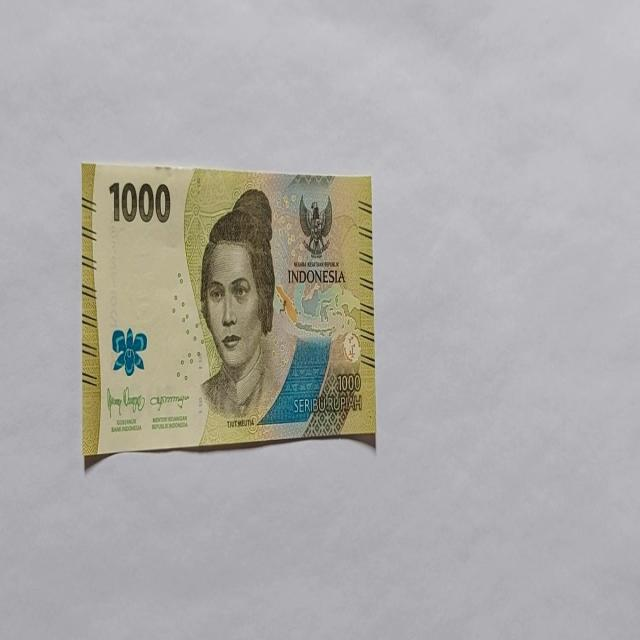seribu rupiah kertas: (80, 160, 376, 458)
